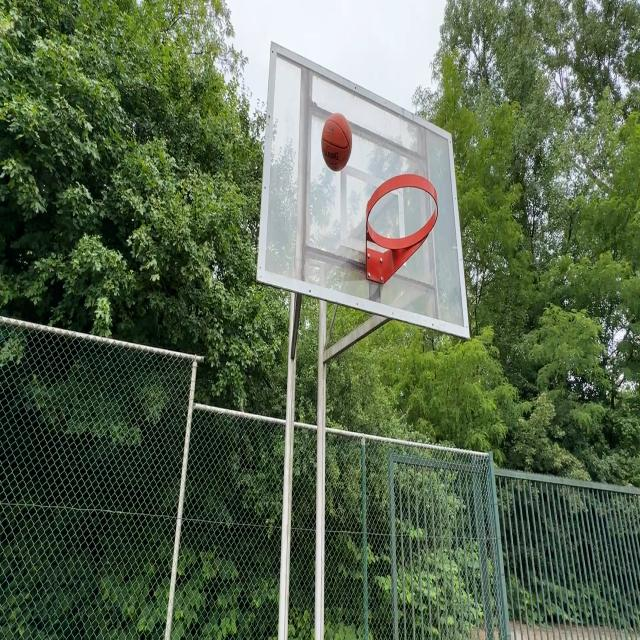rebound_hit: (322, 115, 352, 176)
